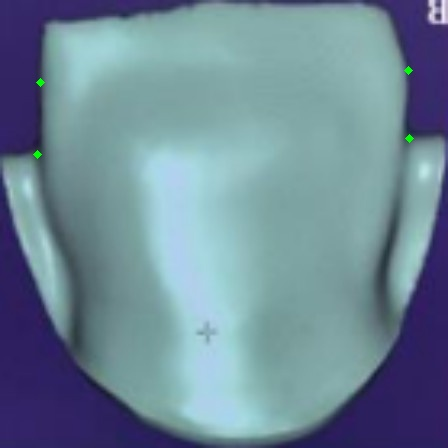coin_1: (409, 138, 429, 158)
coin_2: (408, 70, 428, 90)
coin_3: (37, 154, 57, 174)
coin_4: (40, 82, 60, 102)
